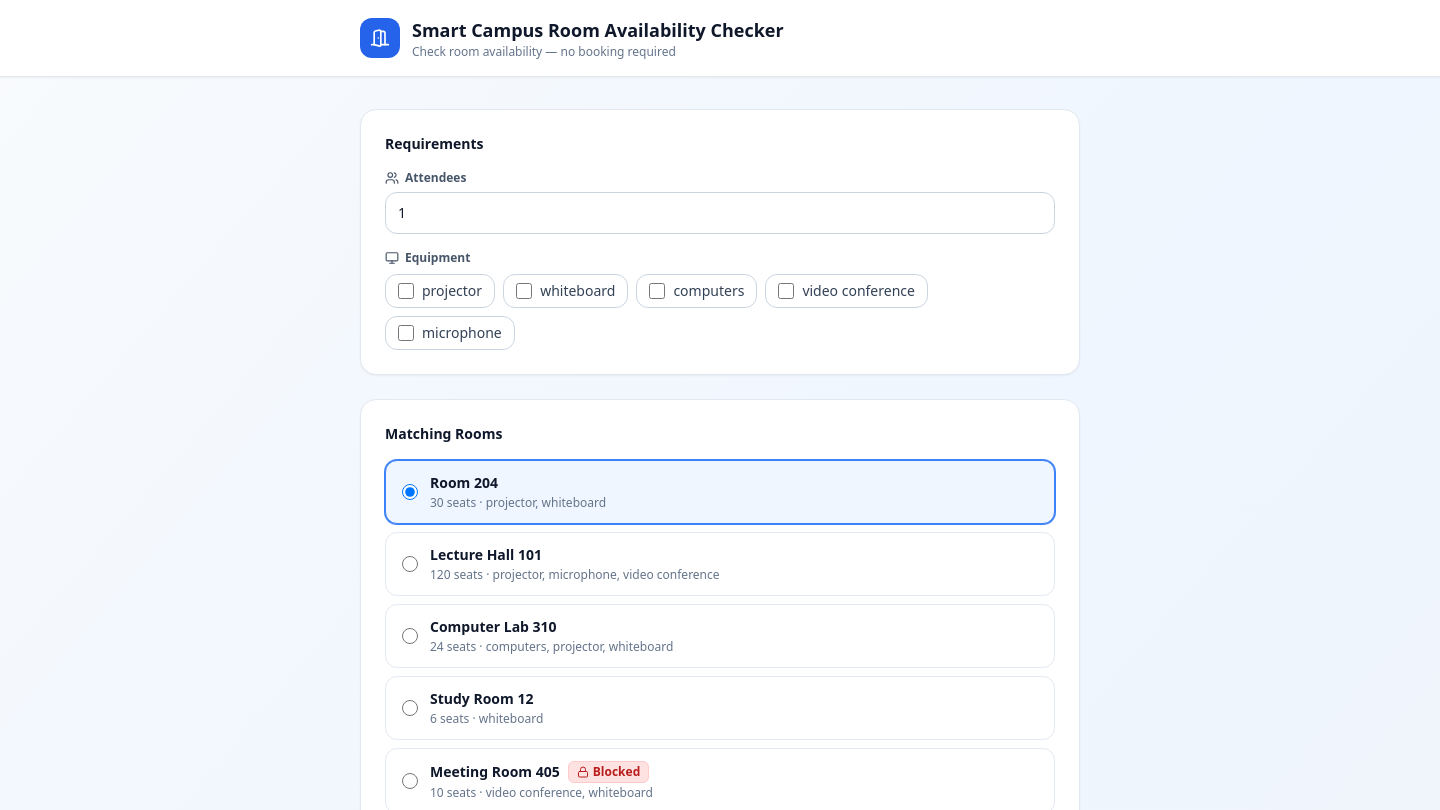
Test: App UI — room catalog and filtering › 500 attendees shows the empty-state text and Check is disabled
Step 1. Type "500" into the number field labelled "Attendees" → x=720, y=213, box [385,192,1055,234]
(page scrolled)
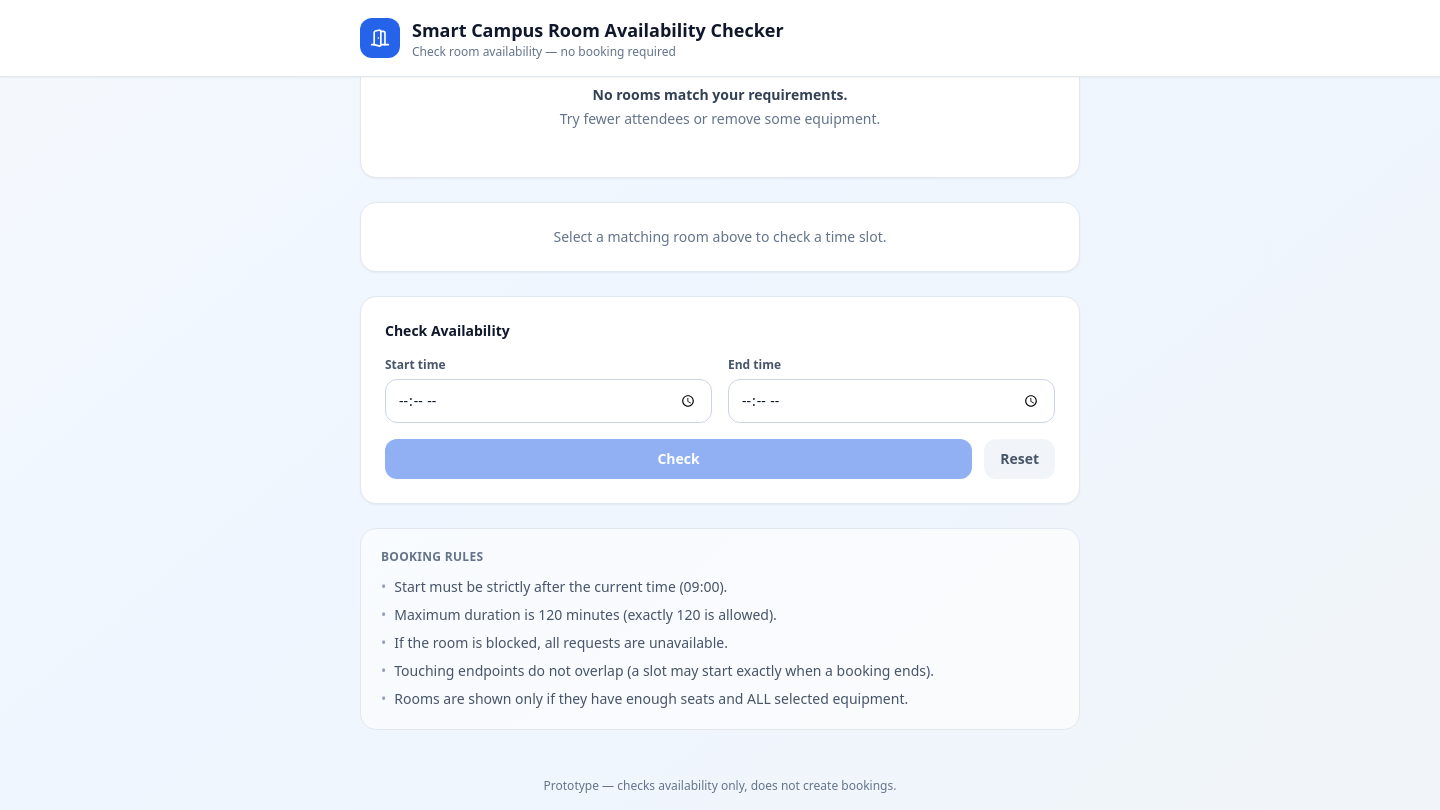
expect the text "No rooms match your requirements." is shown: met, box [593,85,848,104]
expect the text "Try fewer attendees or remove some equipment." is shown: met, box [560,109,880,128]
expect the button "Check" is disabled: met, box [385,439,972,479]
